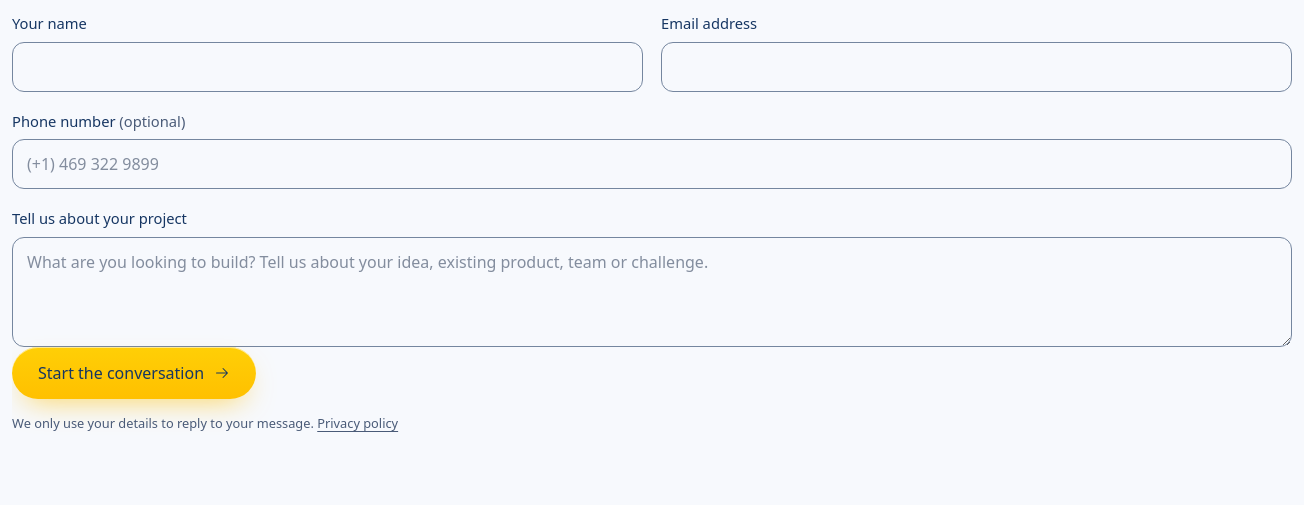
Scenario: HomeContactForm › shows an alert on 429 and puts focus on the button
The width and height of the screenshot is (1304, 505).
Type "Ana Tran" into the field with id "c-name" at point(328, 66), box x1=12 y1=42 x2=643 y2=92
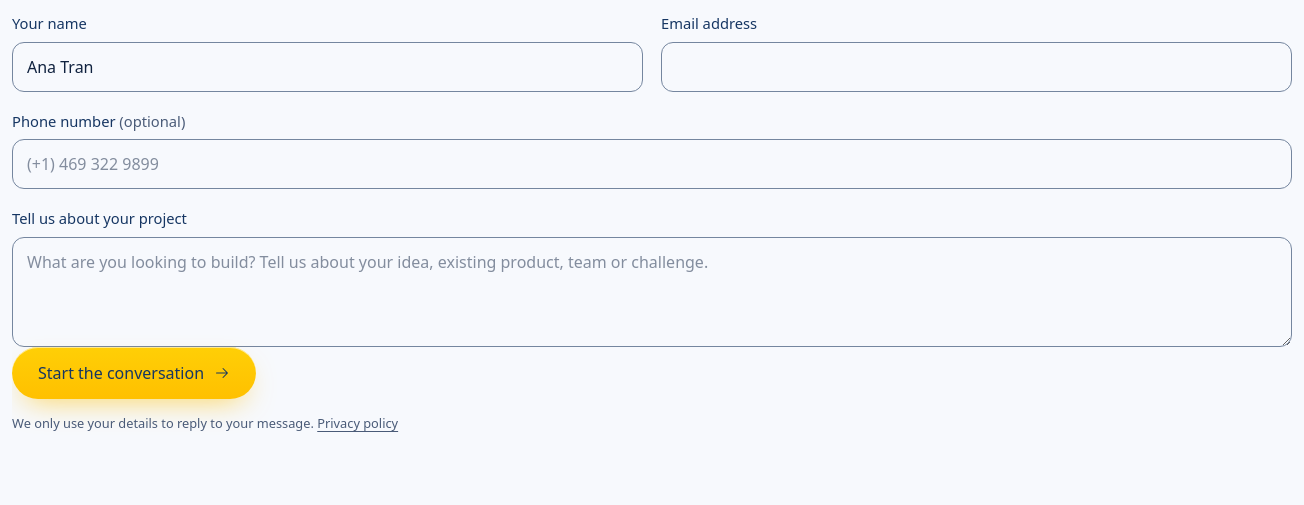
Type "ana@gmail.com" into the field with id "c-email" at point(976, 66), box x1=661 y1=42 x2=1292 y2=92
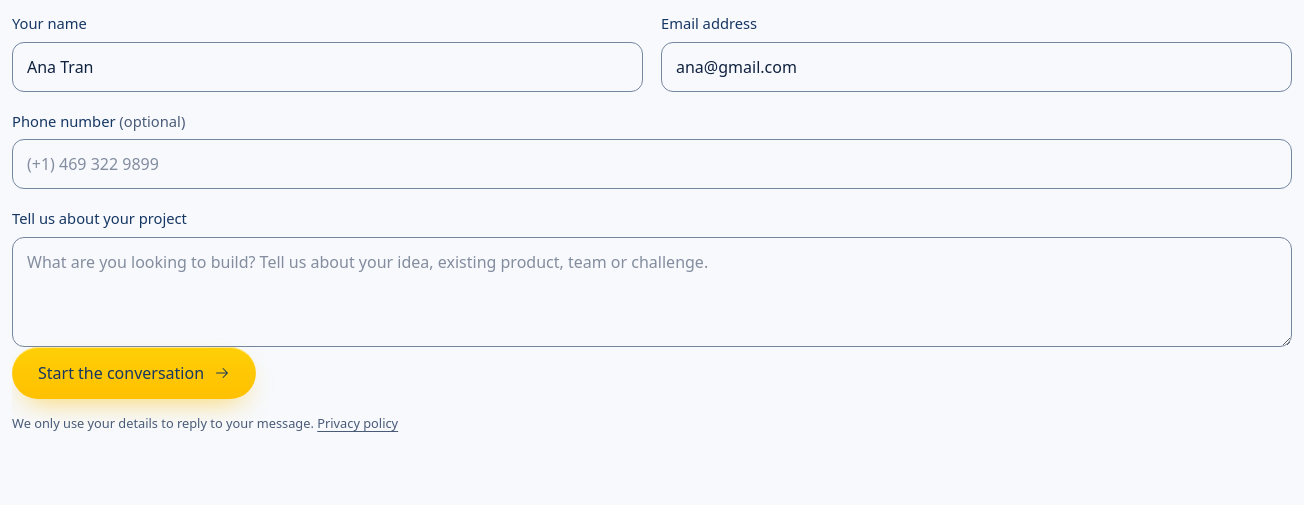
Replace the text in the text box with id "c-msg" with "We want a parent app." at point(652, 292), box x1=12 y1=237 x2=1292 y2=347
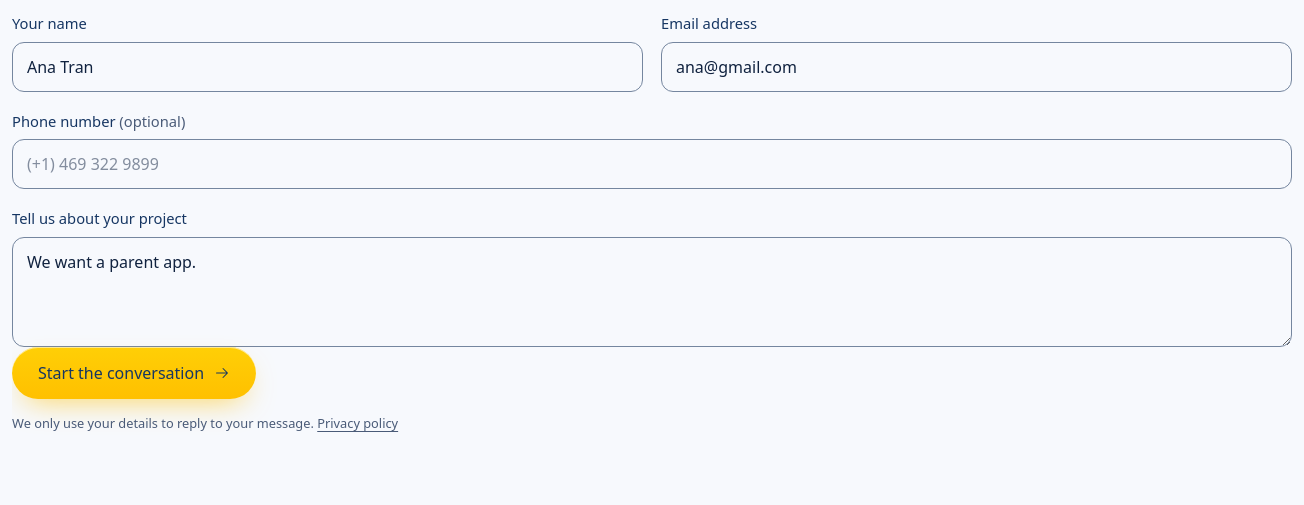
Click the button "Start the conversation" at point(134, 373), box x1=12 y1=347 x2=256 y2=399
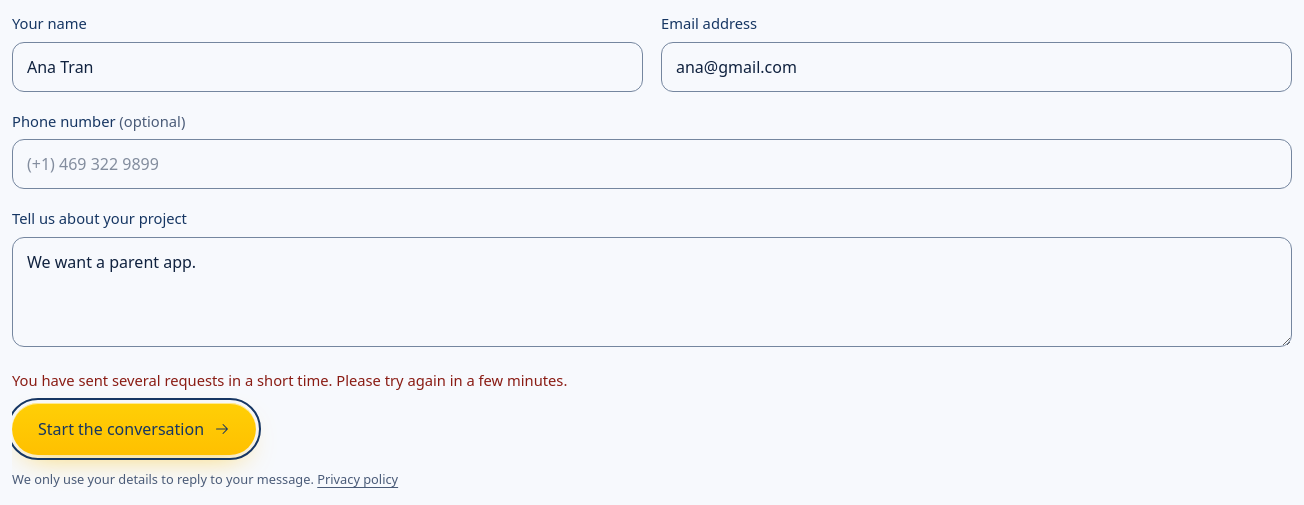
Now the message shows "You have sent several requests in a short time. Please try again in a few minutes.", box x1=12 y1=370 x2=567 y2=390
